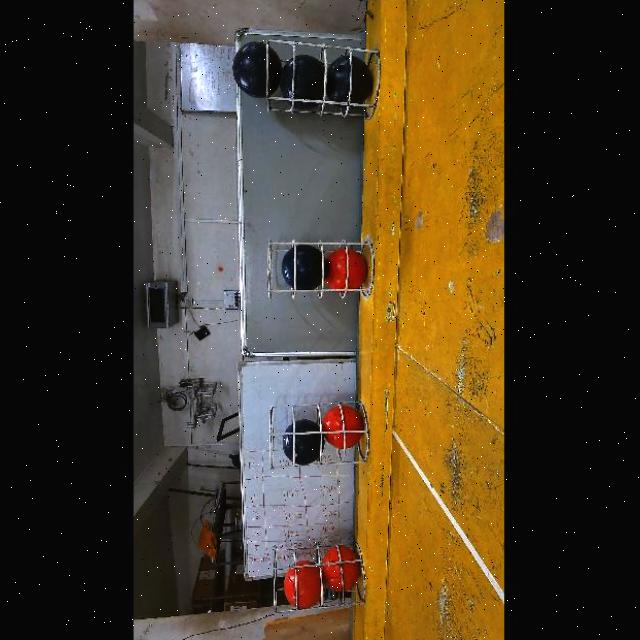P: (231, 39, 282, 97), (327, 51, 374, 107), (279, 55, 326, 109), (280, 244, 322, 289), (281, 420, 320, 466)
R: (325, 249, 368, 293), (321, 406, 364, 449), (321, 546, 360, 593), (284, 560, 321, 609)
S: (258, 48, 372, 120), (266, 542, 370, 614), (266, 238, 376, 302), (264, 408, 372, 460)
